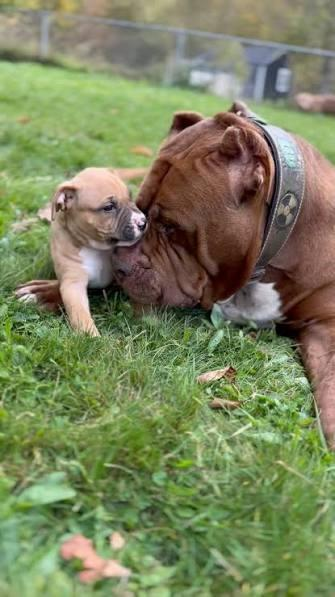adult_dog: (112, 99, 335, 457)
puppy-dog: (17, 164, 151, 340)
